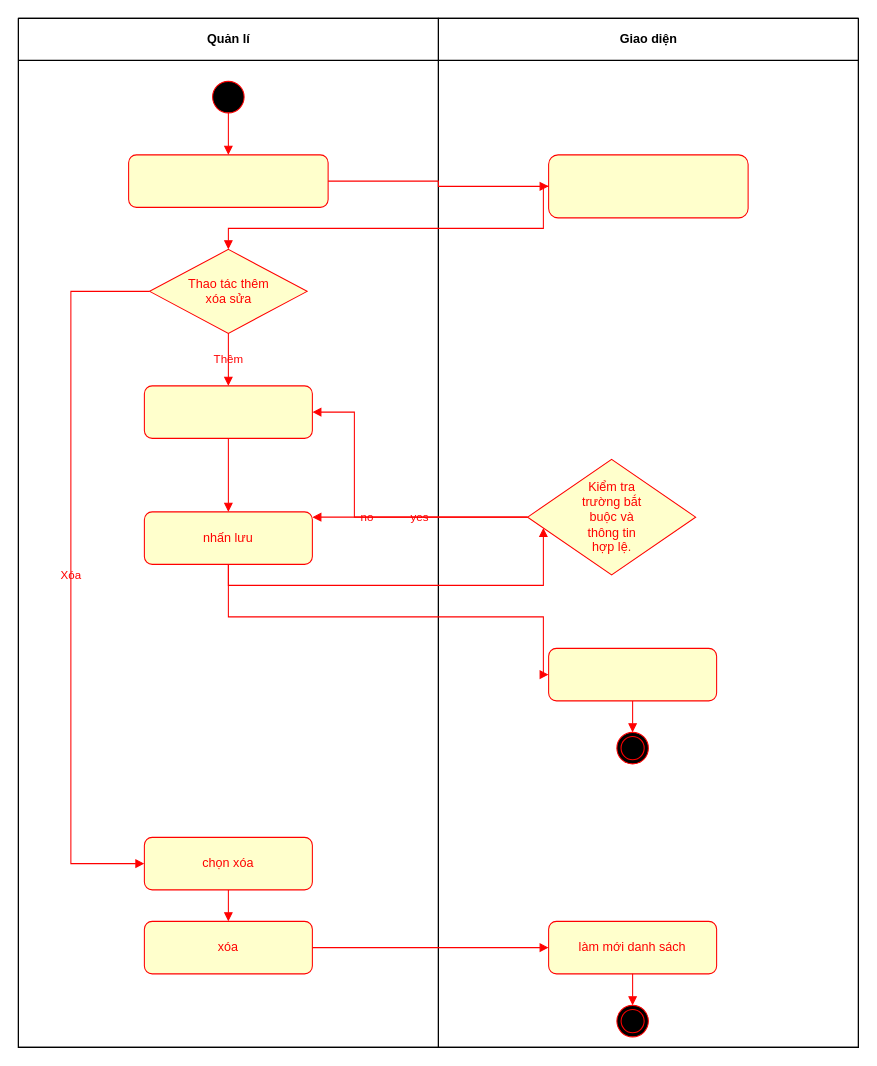
The diagram is 877 pixels wide and 1066 high, and some of its shapes have lost their labels. The shapes that lost their labels are listed below. From the top down, each one's centre as x and y in pixels, then its label:
the point at 228,180: Chọn “Quản lí phiếu phụ trội”.
the point at 648,186: Hiển thị danh sách phiếu phụ trội trên giao diện.
the point at 227,411: chọn thêm
the point at 632,674: đã lưu
